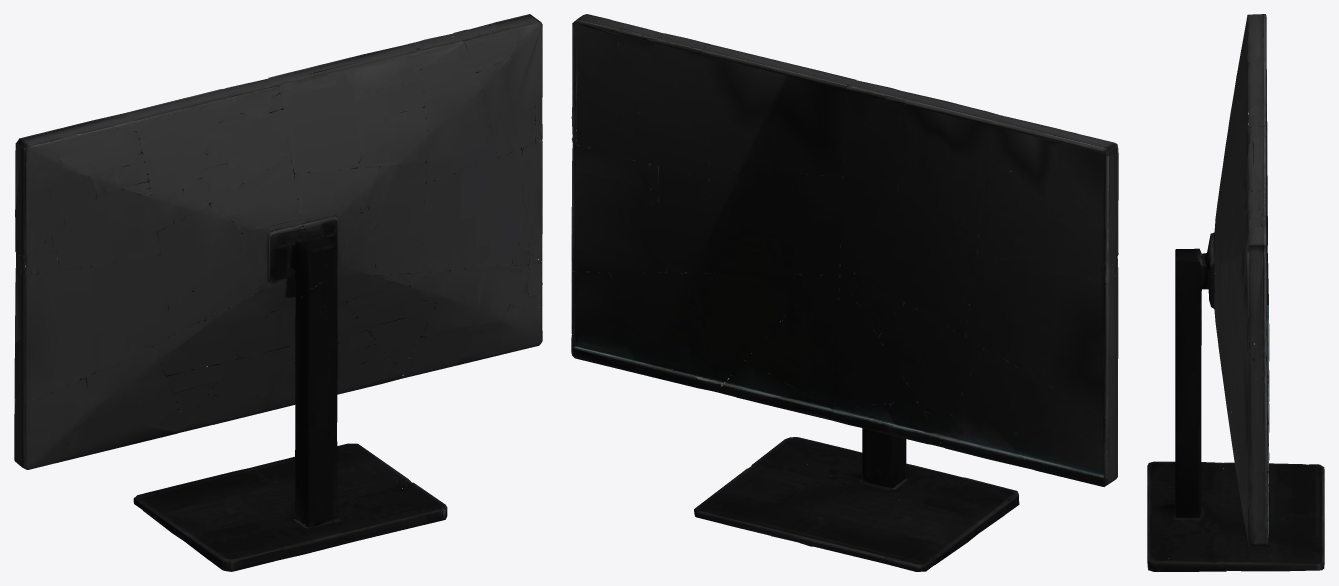
Rendered from monitor.gltf.
3 renders of one model, left to right at view 1: azimuth 30°, elevation 25°; view 2: azimuth 150°, elevation 25°; view 3: azimuth 270°, elevation 25°, orthographic. The views are drawn at different scales.
Visible parts, largest first — view 1: monitor; view 2: monitor; view 3: monitor.
Boxes of the visible parts, bbox=[...] form: monitor: bbox=[14, 14, 542, 571]; monitor: bbox=[571, 14, 1118, 571]; monitor: bbox=[1147, 14, 1324, 571].
Size of the model in its own units: 0.62 by 0.4832 by 0.1982.
1 material, 1 textured.
